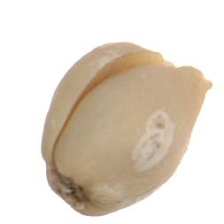L1: (129, 40, 214, 89), (43, 160, 90, 207)
L2: (40, 42, 212, 216)
